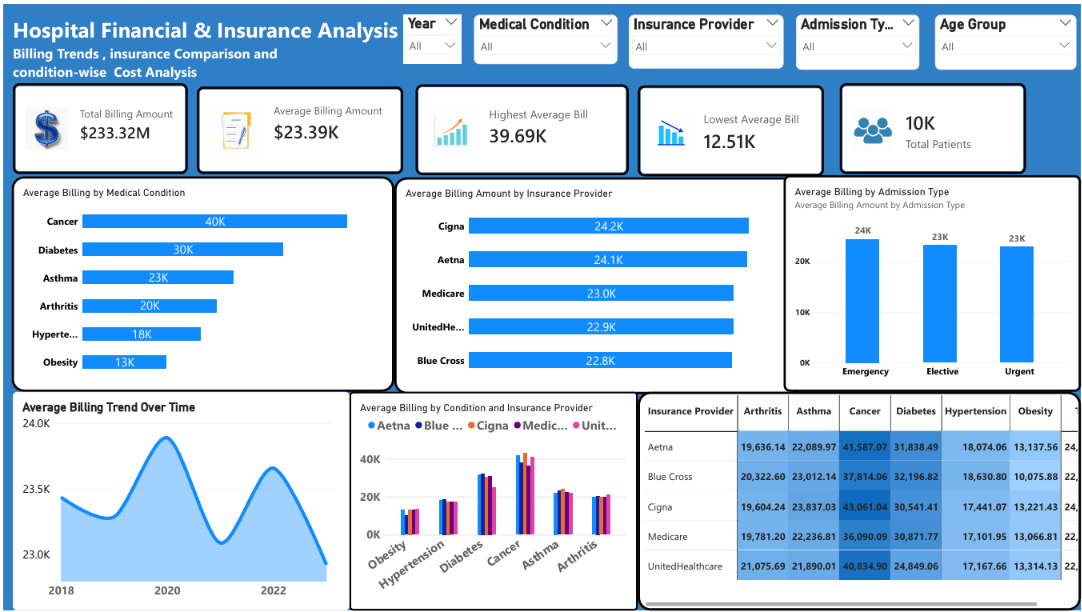

This screenshot's page, from the dashboard's own definition file:
{"tool":"powerbi","page":{"name":"Financial and Insurance Analysis ","canvas":[1920,1080],"ordinal":2},"visuals":[{"type":"cardVisual","fields":{"Data":["Healthcare_Data_v1__1.Total Billing Amount"]},"box":[16,140,312,162],"z":0},{"type":"cardVisual","fields":{"Data":["Healthcare_Data_v1__1.Average Billing Amount"]},"box":[344,146,368,156],"z":1000},{"type":"cardVisual","fields":{"Data":["Healthcare_Data_v1__1.Highest Condition Average Billing"]},"box":[734,142,380,162],"z":2000},{"type":"cardVisual","fields":{"Data":["Healthcare_Data_v1__1.Lowest Condition Average Billing"]},"box":[1130,144,332,162],"z":3000},{"type":"cardVisual","fields":{"Data":["Healthcare_Data_v1__1.Patients with Billing Data"]},"box":[1490,140,332,162],"z":4000},{"type":"clusteredBarChart","title":"Average Billing by Medical Condition","fields":{"Category":["Healthcare_Data_v1__1.Medical Condition"],"Y":["Healthcare_Data_v1__1.Average Billing Amount"]},"box":[14,306,682,384],"z":5000},{"type":"clusteredBarChart","fields":{"Category":["Healthcare_Data_v1__1.Insurance Provider"],"Y":["Healthcare_Data_v1__1.Average Billing Amount"]},"box":[696,308,728,386],"z":6000},{"type":"clusteredColumnChart","title":"Average Billing by Condition and Insurance Provider","fields":{"Category":["Healthcare_Data_v1__1.Medical Condition"],"Series":["Healthcare_Data_v1__1.Insurance Provider"],"Y":["Healthcare_Data_v1__1.Average Billing Amount"]},"box":[616,690,514,390],"z":7000},{"type":"lineChart","title":"Average Billing Trend Over Time","fields":{"Category":["DateTable.Year"],"Y":["Healthcare_Data_v1__1.Average Billing Amount"]},"box":[16,690,600,390],"z":8000},{"type":"clusteredColumnChart","title":"Average Billing by Admission Type","fields":{"Category":["Healthcare_Data_v1__1.Admission Type"],"Y":["Healthcare_Data_v1__1.Average Billing Amount"]},"box":[1390,304,530,386],"z":9000},{"type":"pivotTable","fields":{"Columns":["Healthcare_Data_v1__1.Medical Condition"],"Rows":["Healthcare_Data_v1__1.Insurance Provider"],"Values":["Healthcare_Data_v1__1.Average Billing Amount"]},"box":[1130,690,790,390],"z":10000},{"type":"textbox","box":[16,18,696,52],"z":11000},{"type":"textbox","box":[16,70,572,140],"z":12000},{"type":"slicer","fields":{"Values":["Healthcare_Data_v1__1.Year"]},"box":[712,18,104,88],"z":13000},{"type":"slicer","fields":{"Values":["Healthcare_Data_v1__1.Medical Condition"]},"box":[838,18,256,88],"z":14000},{"type":"slicer","fields":{"Values":["Healthcare_Data_v1__1.Insurance Provider"]},"box":[1114,18,276,96],"z":15000},{"type":"slicer","fields":{"Values":["Healthcare_Data_v1__1.Admission Type"]},"box":[1412,18,220,98],"z":16000},{"type":"slicer","fields":{"Values":["Healthcare_Data_v1__1.Age Group"]},"box":[1660,18,252,98],"z":17000}]}

Visuals, with their boxes in screenshot pixels (x1, y1, x2, y2), scaled from the page's 1920x1080 canvas onto the 1082x612 screenshot:
cardVisual - Healthcare_Data_v1__1.Total Billing Amount: {"left": 9, "top": 79, "right": 185, "bottom": 171}
cardVisual - Healthcare_Data_v1__1.Average Billing Amount: {"left": 194, "top": 83, "right": 401, "bottom": 171}
cardVisual - Healthcare_Data_v1__1.Highest Condition Average Billing: {"left": 414, "top": 80, "right": 628, "bottom": 172}
cardVisual - Healthcare_Data_v1__1.Lowest Condition Average Billing: {"left": 637, "top": 82, "right": 824, "bottom": 173}
cardVisual - Healthcare_Data_v1__1.Patients with Billing Data: {"left": 840, "top": 79, "right": 1027, "bottom": 171}
"Average Billing by Medical Condition" clusteredBarChart: {"left": 8, "top": 173, "right": 392, "bottom": 391}
clusteredBarChart - Healthcare_Data_v1__1.Insurance Provider x Healthcare_Data_v1__1.Average Billing Amount: {"left": 392, "top": 175, "right": 802, "bottom": 393}
"Average Billing by Condition and Insurance Provider" clusteredColumnChart: {"left": 347, "top": 391, "right": 637, "bottom": 611}
"Average Billing Trend Over Time" lineChart: {"left": 9, "top": 391, "right": 347, "bottom": 611}
"Average Billing by Admission Type" clusteredColumnChart: {"left": 783, "top": 172, "right": 1081, "bottom": 391}
pivotTable - Healthcare_Data_v1__1.Medical Condition x Healthcare_Data_v1__1.Insurance Provider: {"left": 637, "top": 391, "right": 1081, "bottom": 611}
textbox: {"left": 9, "top": 10, "right": 401, "bottom": 40}
textbox: {"left": 9, "top": 40, "right": 331, "bottom": 119}
slicer - Healthcare_Data_v1__1.Year: {"left": 401, "top": 10, "right": 460, "bottom": 60}
slicer - Healthcare_Data_v1__1.Medical Condition: {"left": 472, "top": 10, "right": 617, "bottom": 60}
slicer - Healthcare_Data_v1__1.Insurance Provider: {"left": 628, "top": 10, "right": 783, "bottom": 65}
slicer - Healthcare_Data_v1__1.Admission Type: {"left": 796, "top": 10, "right": 920, "bottom": 66}
slicer - Healthcare_Data_v1__1.Age Group: {"left": 935, "top": 10, "right": 1077, "bottom": 66}
